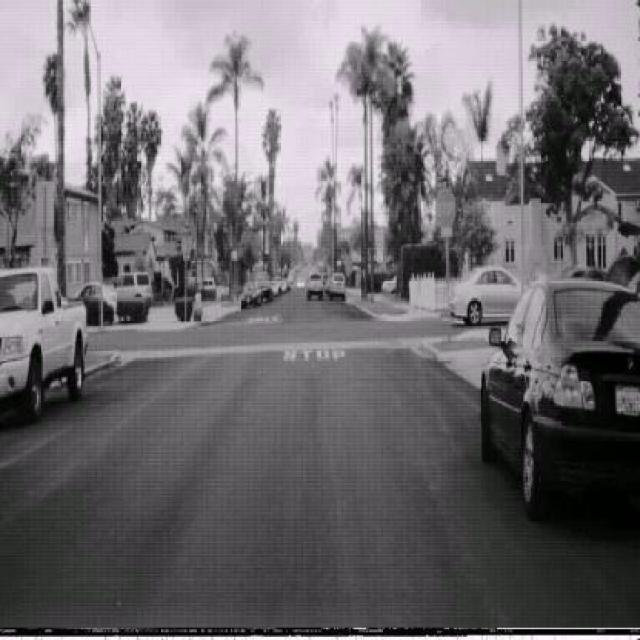stop: (435, 186, 457, 229)
